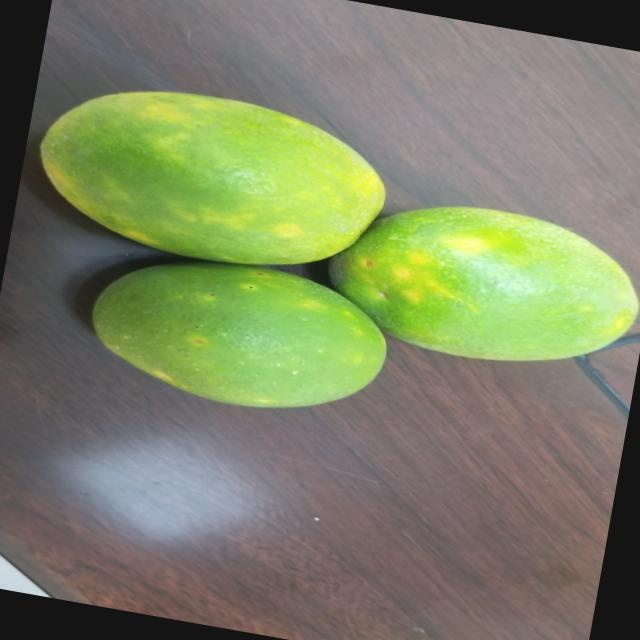agrume: (58, 226, 422, 454), (29, 63, 402, 285), (284, 169, 640, 393)
